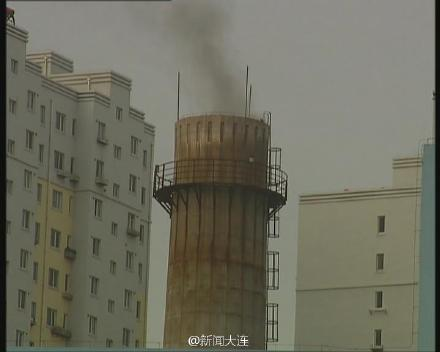dust: (148, 3, 273, 124)
